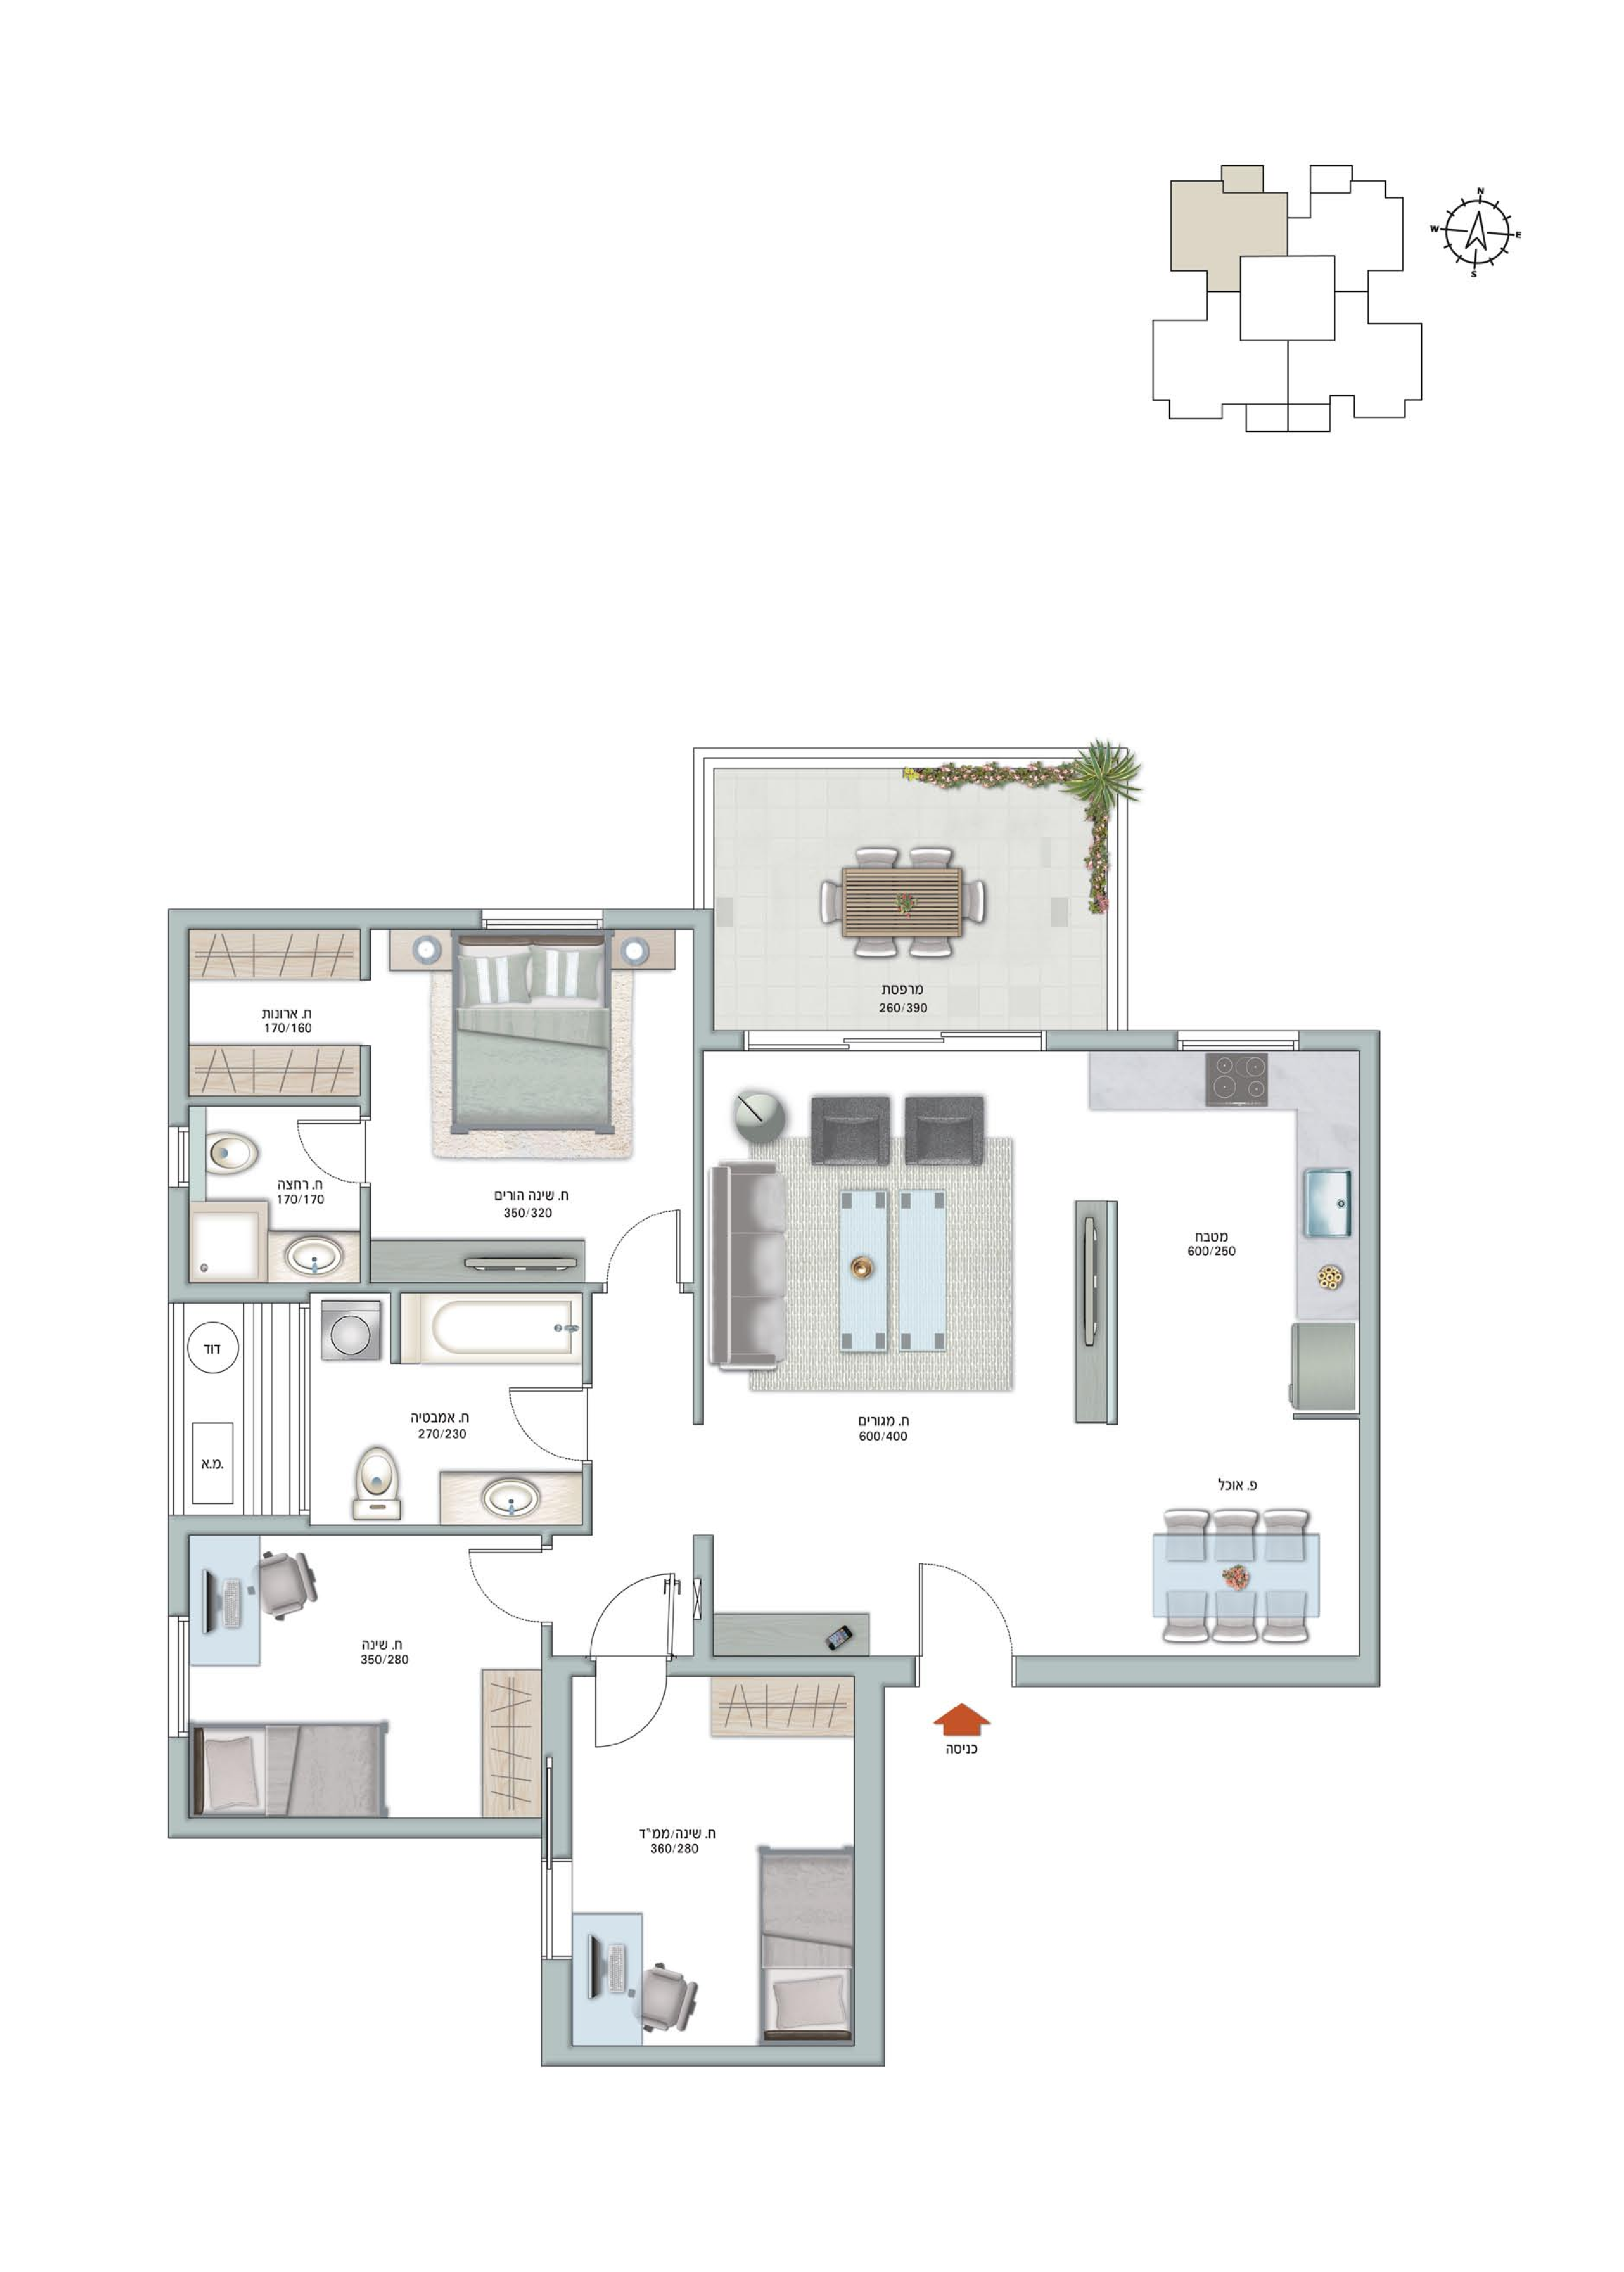door: (903, 1559, 1018, 1650), (582, 1678, 678, 1762), (587, 1571, 684, 1653), (497, 1383, 580, 1464), (457, 1543, 540, 1624), (601, 1205, 687, 1281)
wall: (1359, 1031, 1380, 1687), (858, 1661, 884, 2065), (541, 2044, 858, 2066), (169, 910, 482, 928), (169, 930, 190, 1126), (692, 930, 715, 1051), (694, 1054, 701, 1423), (603, 910, 714, 930), (190, 1096, 360, 1107), (360, 1046, 369, 1118), (418, 1546, 427, 1618)
window: (742, 1030, 1048, 1054), (288, 1302, 311, 1516), (543, 1857, 571, 1959), (167, 1613, 190, 1738), (482, 910, 605, 933), (1178, 1030, 1301, 1053), (167, 1128, 190, 1188)
